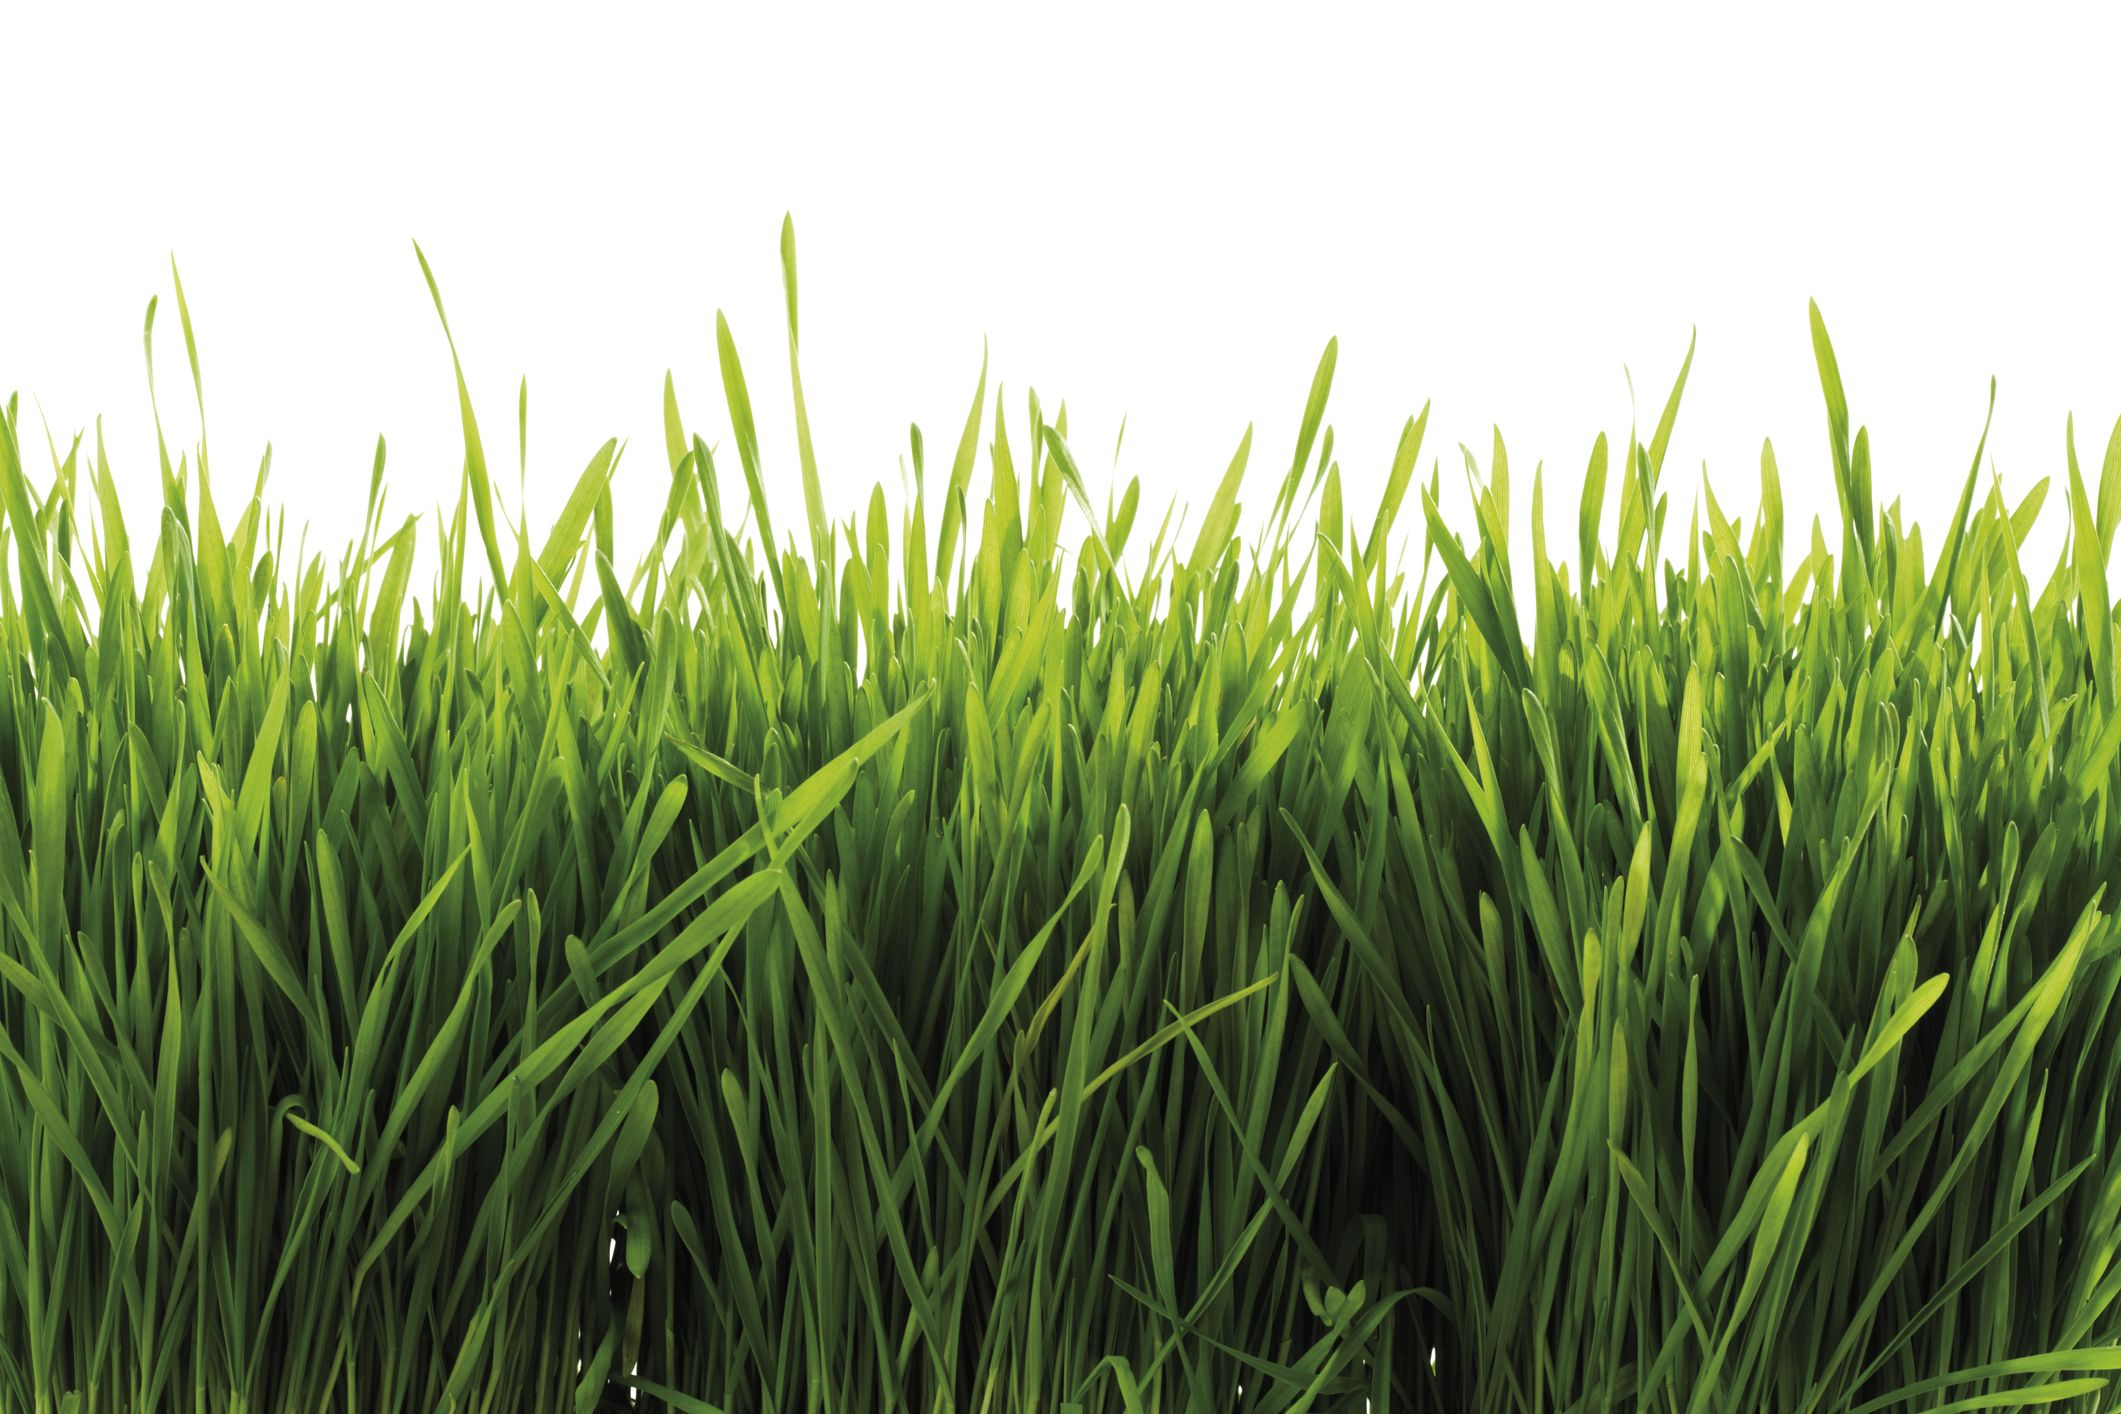grass: (2, 672, 2121, 1414)
